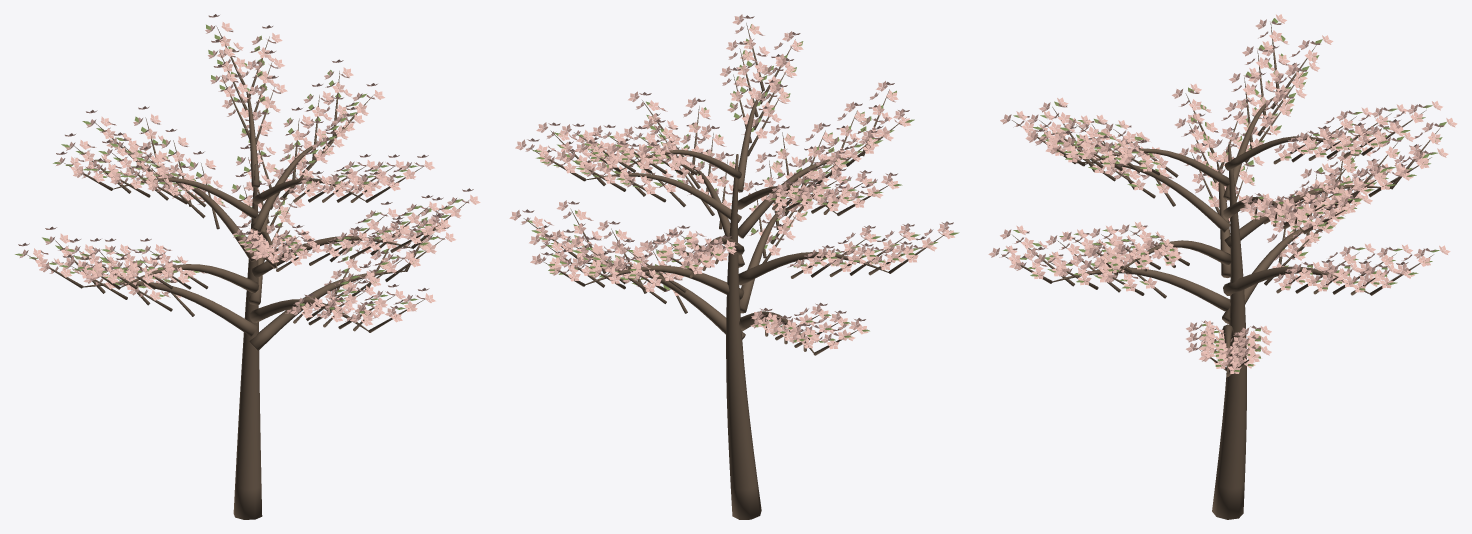
The model's file is blossom-lod0.glb.
3 views of the same model, side by side, from view 1: azimuth 30°, elevation 25°; view 2: azimuth 150°, elevation 25°; view 3: azimuth 270°, elevation 25° (orthographic). The views are drawn at different scales.
Parts seen in each view (by area): view 1: actual five petal flowers, rooted trunk and branch hierarchy, three dimensional leaves; view 2: actual five petal flowers, rooted trunk and branch hierarchy, three dimensional leaves; view 3: actual five petal flowers, rooted trunk and branch hierarchy, three dimensional leaves.
Part boxes in pixels (x1,y1,x2,y2): actual five petal flowers: (18, 14, 480, 326); rooted trunk and branch hierarchy: (26, 26, 468, 519); three dimensional leaves: (15, 24, 462, 315); actual five petal flowers: (509, 14, 954, 349); rooted trunk and branch hierarchy: (523, 23, 950, 519); three dimensional leaves: (527, 24, 959, 342); actual five petal flowers: (988, 14, 1457, 373); rooted trunk and branch hierarchy: (1001, 23, 1440, 519); three dimensional leaves: (1003, 18, 1446, 372).
Size of the model in its own units: 5.01 by 4.98 by 4.75.
